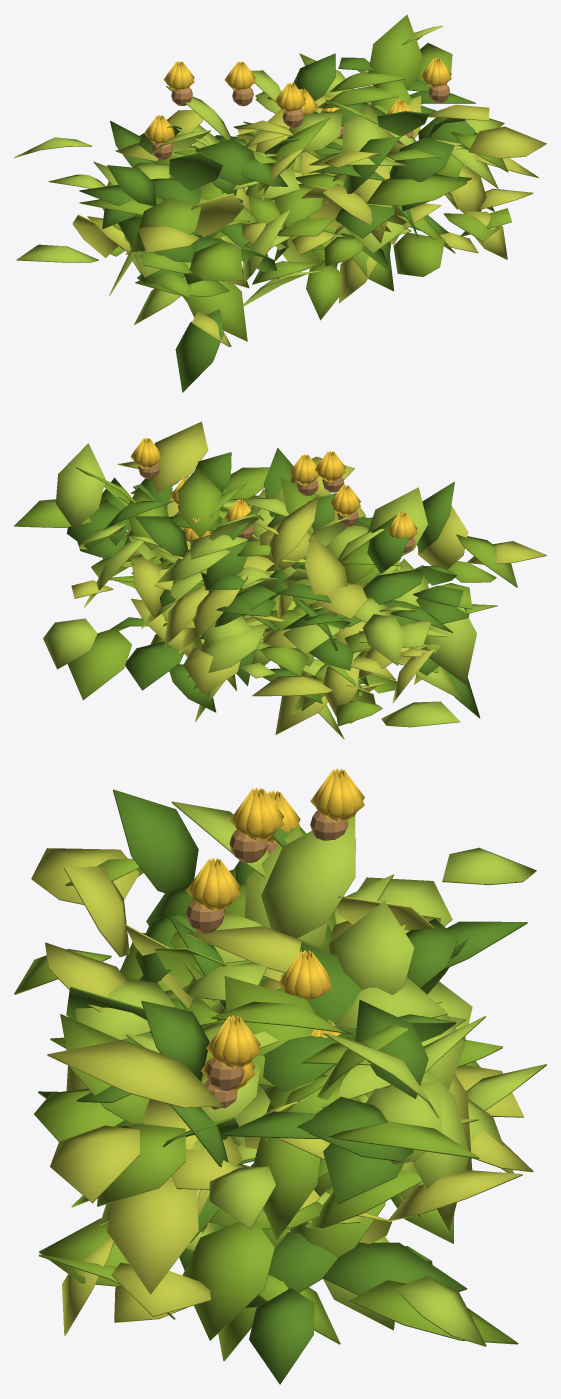
File: PlanterCrown.fbx
3 renders of one model, top to bottom at view 1: azimuth 30°, elevation 25°; view 2: azimuth 150°, elevation 25°; view 3: azimuth 270°, elevation 25°, orthographic. The views are drawn at different scales.
Parts seen in each view (by area): view 1: Dense mixed planter leaves, Sunflower petals 1, Sunflower petals 2, Sunflower petals 3, Sunflower petals 7, Sunflower petals 0; view 2: Dense mixed planter leaves, Sunflower petals 2, Sunflower petals 1, Sunflower petals 7, Sunflower petals 3, Sunflower petals 0; view 3: Dense mixed planter leaves, Sunflower petals 2, Sunflower petals 3, Sunflower petals 7, Sunflower petals 1, Sunflower petals 4, Sunflower seed head.003, Sunflower seed head.007, Sunflower seed head.002, Sunflower seed head.001.
Part boxes in pixels (x1=…): Dense mixed planter leaves: x1=14, y1=14, x2=546, y2=392; Sunflower petals 1: x1=163, y1=61, x2=194, y2=90; Sunflower petals 2: x1=224, y1=61, x2=255, y2=90; Sunflower petals 3: x1=275, y1=82, x2=305, y2=111; Sunflower petals 7: x1=420, y1=58, x2=451, y2=86; Sunflower petals 0: x1=144, y1=114, x2=174, y2=143; Dense mixed planter leaves: x1=14, y1=421, x2=546, y2=739; Sunflower petals 2: x1=314, y1=451, x2=345, y2=482; Sunflower petals 1: x1=329, y1=485, x2=360, y2=516; Sunflower petals 7: x1=130, y1=438, x2=161, y2=468; Sunflower petals 3: x1=289, y1=454, x2=319, y2=485; Sunflower petals 0: x1=386, y1=512, x2=417, y2=540; Dense mixed planter leaves: x1=14, y1=789, x2=546, y2=1384; Sunflower petals 2: x1=229, y1=787, x2=283, y2=840; Sunflower petals 3: x1=186, y1=857, x2=240, y2=910; Sunflower petals 7: x1=206, y1=1015, x2=260, y2=1068; Sunflower petals 1: x1=310, y1=768, x2=364, y2=821; Sunflower petals 4: x1=278, y1=950, x2=332, y2=999; Sunflower seed head.003: x1=186, y1=899, x2=224, y2=933; Sunflower seed head.007: x1=206, y1=1057, x2=244, y2=1090; Sunflower seed head.002: x1=229, y1=829, x2=268, y2=862; Sunflower seed head.001: x1=310, y1=810, x2=348, y2=840.
Bounding box in the file's own units: 1.52 × 0.8929 × 0.9062.
